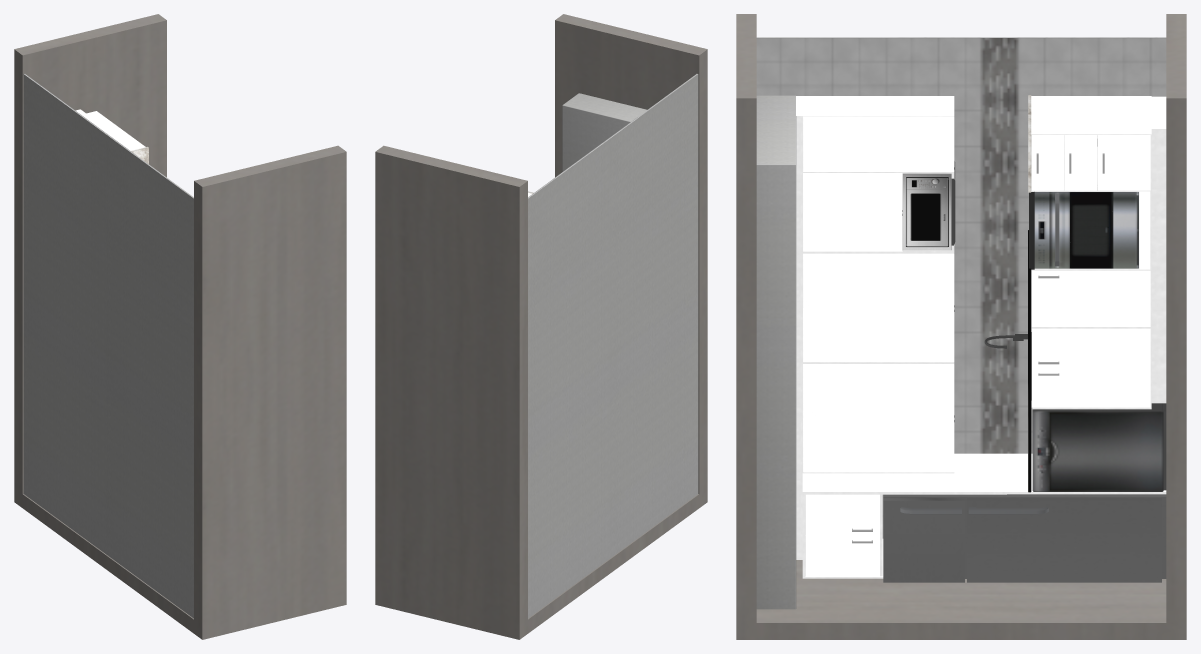
Rendered from kitchen--low-poly-368195.glb.
3 renders of one model, left to right at view 1: azimuth 30°, elevation 25°; view 2: azimuth 150°, elevation 25°; view 3: azimuth 270°, elevation 25°, orthographic. The views are drawn at different scales.
Visible parts, largest first — view 1: PropMesh; view 2: PropMesh; view 3: PropMesh.
Boxes of the visible parts, x1=… form: PropMesh: x1=14, y1=14, x2=346, y2=639; PropMesh: x1=375, y1=14, x2=707, y2=639; PropMesh: x1=736, y1=14, x2=1186, y2=639.
Size of the model in its own units: 0.7335 by 2.2 by 1.66.
4 materials, 4 textured.
